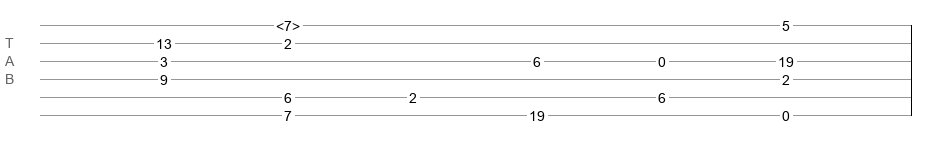0: (658, 54, 666, 64), (782, 108, 790, 118)
13: (156, 36, 172, 46)
19: (529, 108, 545, 118), (778, 54, 794, 64)
2: (284, 36, 292, 46), (409, 90, 417, 100), (782, 72, 790, 82)
3: (160, 54, 168, 64)
5: (782, 18, 790, 28)
6: (284, 90, 292, 100), (533, 54, 541, 64), (658, 90, 666, 100)
7: (284, 108, 292, 118)
9: (160, 72, 168, 82)
harmonic: (276, 18, 300, 28)
